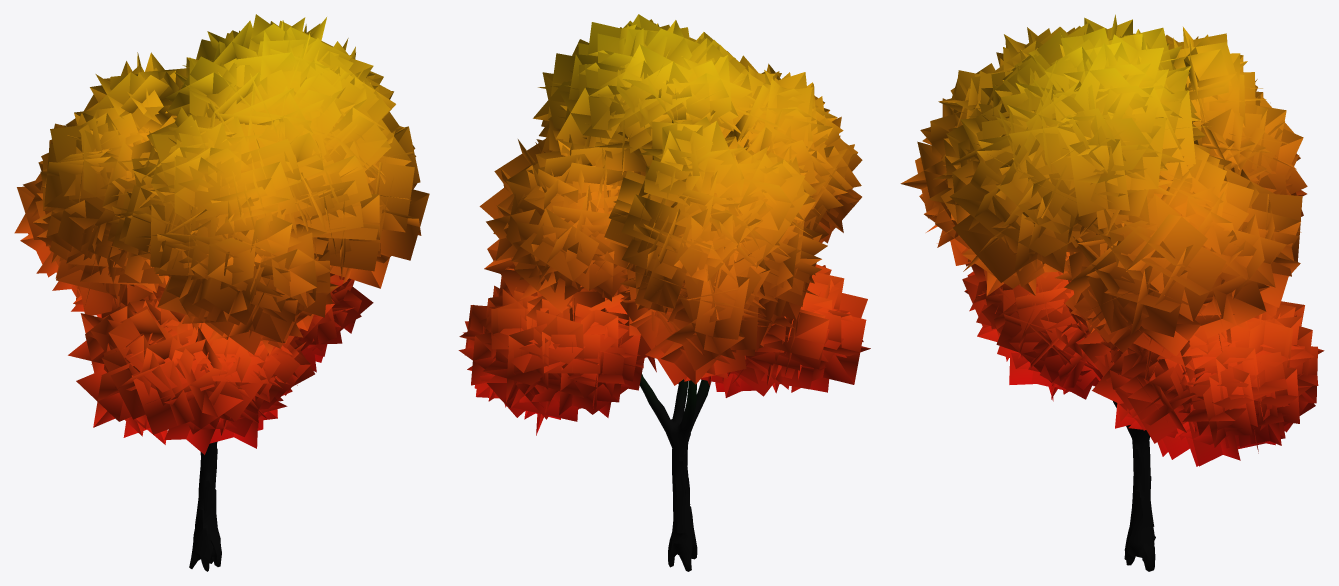
The model's file is TGV_Beech_Tree_03A.fbx.
3 renders of one model, left to right at view 1: azimuth 30°, elevation 25°; view 2: azimuth 150°, elevation 25°; view 3: azimuth 270°, elevation 25°, orthographic. The views are drawn at different scales.
Parts seen in each view (by area): view 1: TGV_Beech_Tree_03A_LOD0; view 2: TGV_Beech_Tree_03A_LOD0; view 3: TGV_Beech_Tree_03A_LOD0.
Boxes of the visible parts, left/top/right/bottom form: TGV_Beech_Tree_03A_LOD0: left=14, top=14, right=429, bottom=571; TGV_Beech_Tree_03A_LOD0: left=458, top=14, right=870, bottom=571; TGV_Beech_Tree_03A_LOD0: left=900, top=14, right=1324, bottom=571.
Size of the model in its own units: 955 by 1455 by 996.
